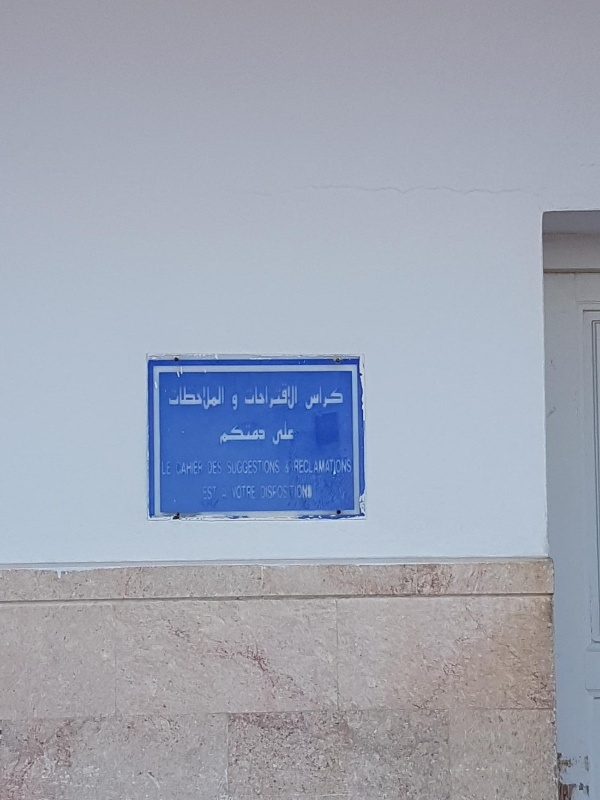text: (209, 384, 225, 411), (257, 383, 272, 411), (273, 383, 288, 411), (177, 384, 192, 411), (193, 384, 208, 411), (273, 420, 288, 447), (321, 384, 336, 410), (243, 383, 256, 411), (306, 384, 320, 410), (225, 424, 240, 447), (241, 424, 256, 447), (289, 383, 299, 411), (337, 458, 353, 474), (241, 484, 257, 500), (241, 459, 256, 475), (257, 459, 272, 475), (305, 458, 320, 474), (321, 458, 336, 474), (273, 484, 288, 500), (289, 484, 304, 500), (177, 460, 192, 475), (162, 461, 176, 476), (337, 384, 345, 410), (227, 459, 240, 475), (259, 484, 272, 500), (257, 424, 266, 447), (209, 461, 223, 475), (169, 384, 176, 411), (289, 420, 295, 447), (294, 458, 304, 474), (193, 460, 203, 475), (232, 393, 240, 411), (273, 459, 282, 475), (231, 484, 240, 500), (209, 485, 217, 501), (305, 484, 313, 500), (219, 424, 224, 447), (202, 485, 208, 501), (283, 461, 288, 475), (221, 485, 224, 499), (225, 485, 228, 499), (206, 461, 208, 475), (289, 461, 291, 475), (271, 420, 272, 447), (175, 460, 176, 475)
